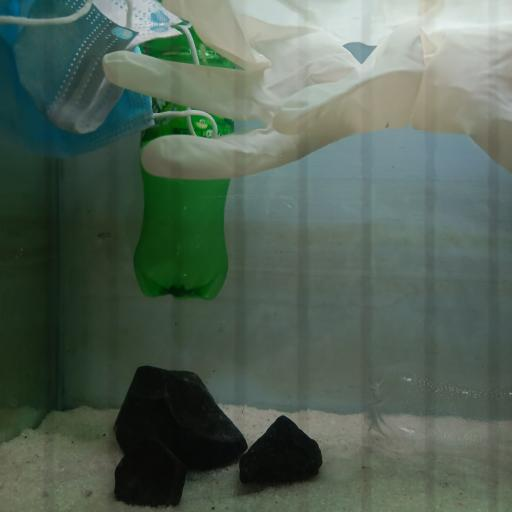glove: (99, 4, 512, 183)
mask: (2, 2, 182, 157)
plastic_bottle: (135, 24, 231, 305), (364, 361, 512, 468)
